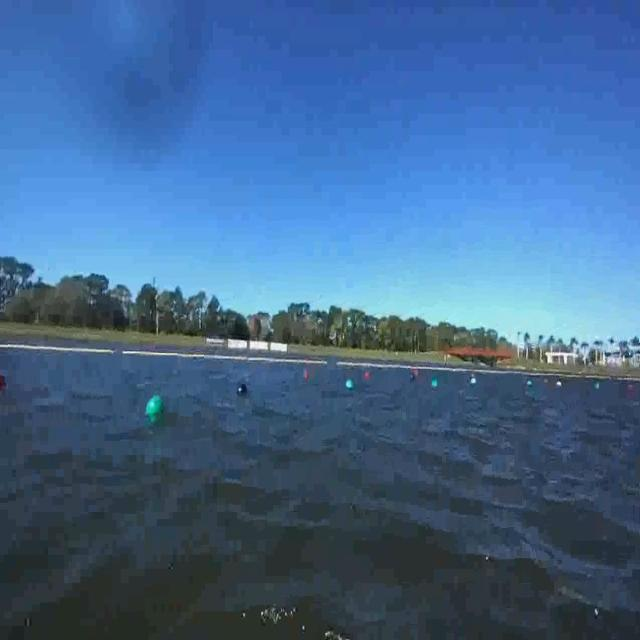black-buoy: (238, 382, 249, 397)
green-buoy: (148, 398, 164, 420), (429, 380, 441, 394), (347, 379, 354, 391)
red-buoy: (302, 367, 313, 384), (0, 374, 6, 390), (365, 372, 374, 375)
